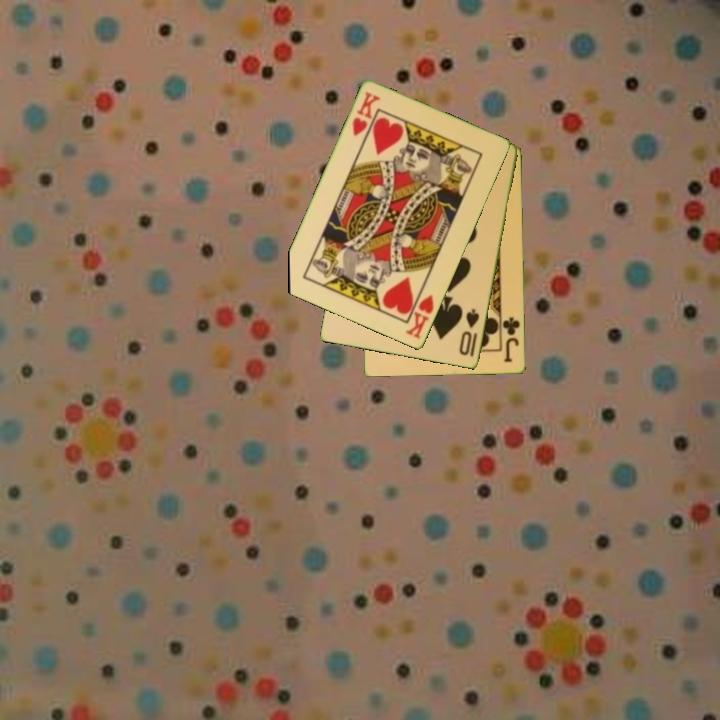10s: (456, 305, 482, 359)
Jc: (500, 314, 523, 365)
Kh: (402, 284, 437, 342), (349, 89, 383, 140)
